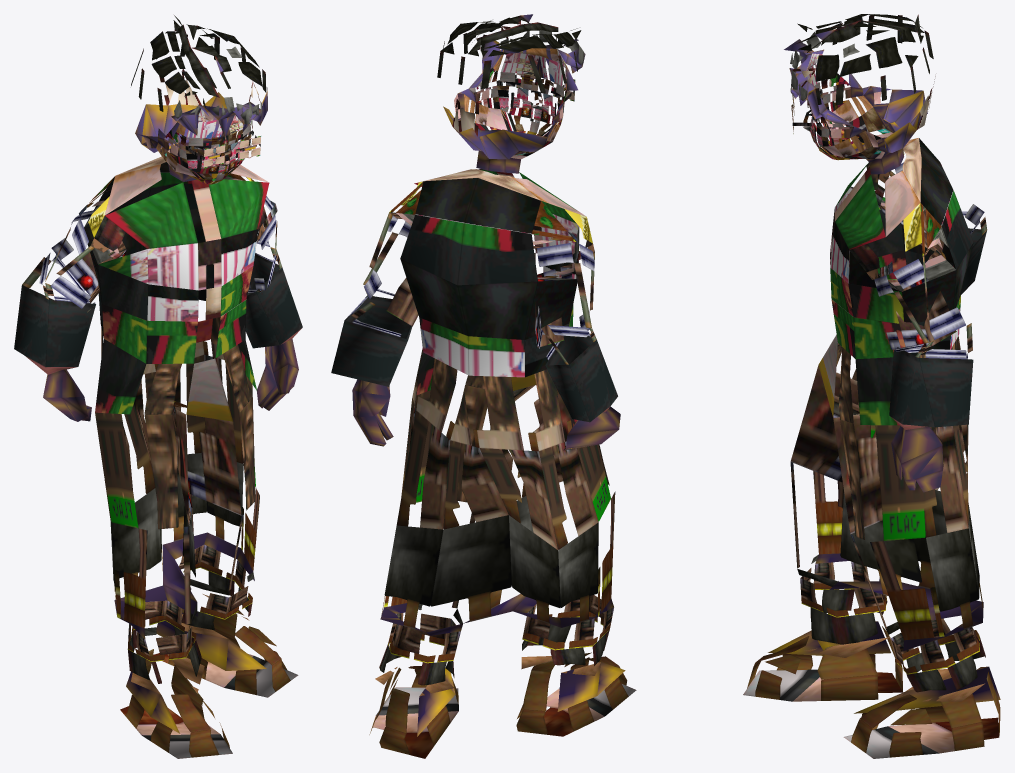
3 renders of one model, left to right at view 1: azimuth 30°, elevation 25°; view 2: azimuth 150°, elevation 25°; view 3: azimuth 270°, elevation 25°, orthographic. The views are drawn at different scales.
Visible parts, largest first — view 1: T1L4M002_16; view 2: T1L4M002_16; view 3: T1L4M002_16.
Boxes of the visible parts, x1,y1,x2,y2 form: T1L4M002_16: (14, 15, 302, 758); T1L4M002_16: (331, 14, 636, 758); T1L4M002_16: (743, 14, 1000, 758).
Bounding box in the file's own units: 0.574 × 1.39 × 0.5112.
